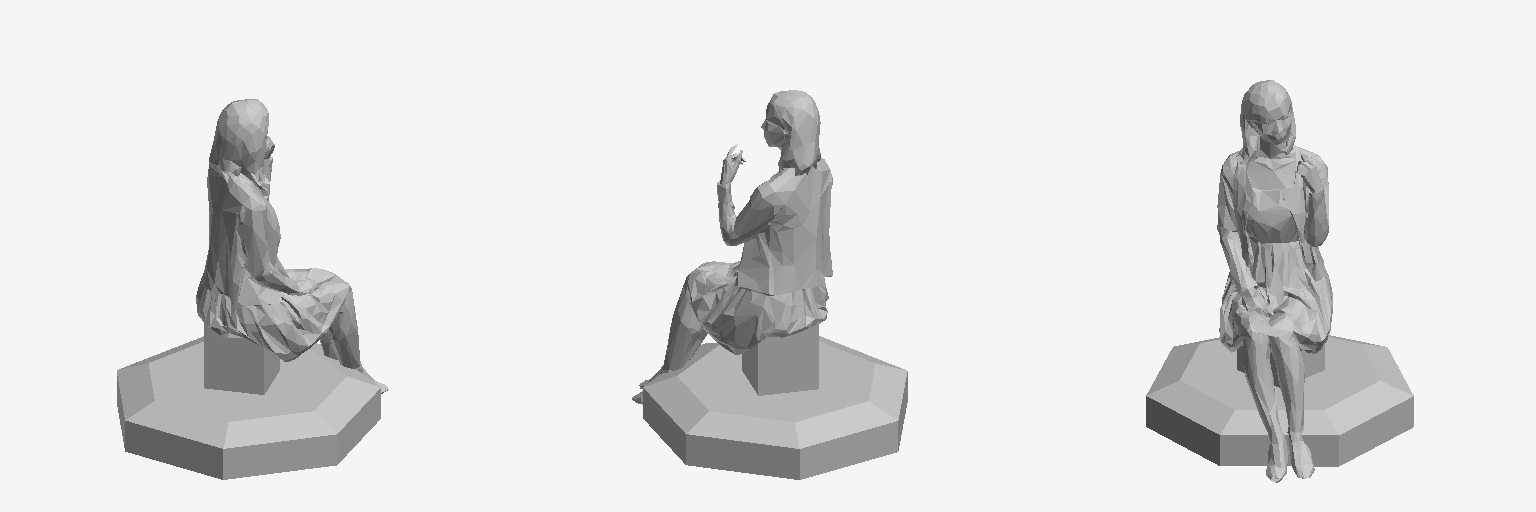
The model's file is windows queen.obj.
3 renders of one model, left to right at view 1: azimuth 30°, elevation 25°; view 2: azimuth 150°, elevation 25°; view 3: azimuth 270°, elevation 25°, orthographic.
Parts seen in each view (by area): view 1: 091_W_Aya_100K_01; view 2: 091_W_Aya_100K_01; view 3: 091_W_Aya_100K_01.
Boxes of the visible parts, <box> form: 091_W_Aya_100K_01: <box>117,99,388,479</box>; 091_W_Aya_100K_01: <box>632,90,907,479</box>; 091_W_Aya_100K_01: <box>1146,80,1413,482</box>.
Bounding box in the file's own units: 1.98 × 2.37 × 1.75.